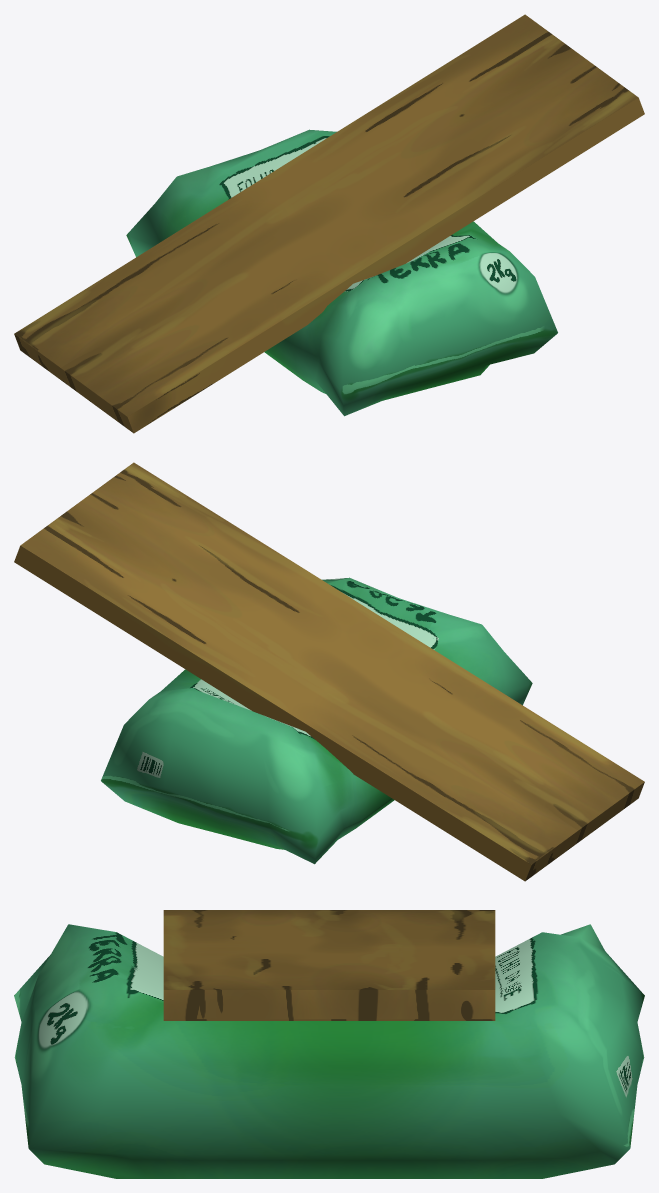
File: rampa.fbx
The picture shows the model from 3 angles, top to bottom: view 1: azimuth 30°, elevation 25°; view 2: azimuth 150°, elevation 25°; view 3: azimuth 270°, elevation 25°; orthographic projection. The views are drawn at different scales.
Visible parts, largest first — view 1: Cube, Cube.001; view 2: Cube, Cube.001; view 3: Cube.001, Cube.
Boxes of the visible parts, left/top/right/bottom form: Cube: left=14, top=14, right=644, bottom=433; Cube.001: left=126, top=129, right=557, bottom=416; Cube: left=14, top=462, right=644, bottom=881; Cube.001: left=101, top=577, right=532, bottom=864; Cube.001: left=14, top=924, right=644, bottom=1178; Cube: left=163, top=910, right=495, bottom=1020.
Size of the model in its own units: 278 by 112 by 201.
Materials: 2 (2 with a texture image).
